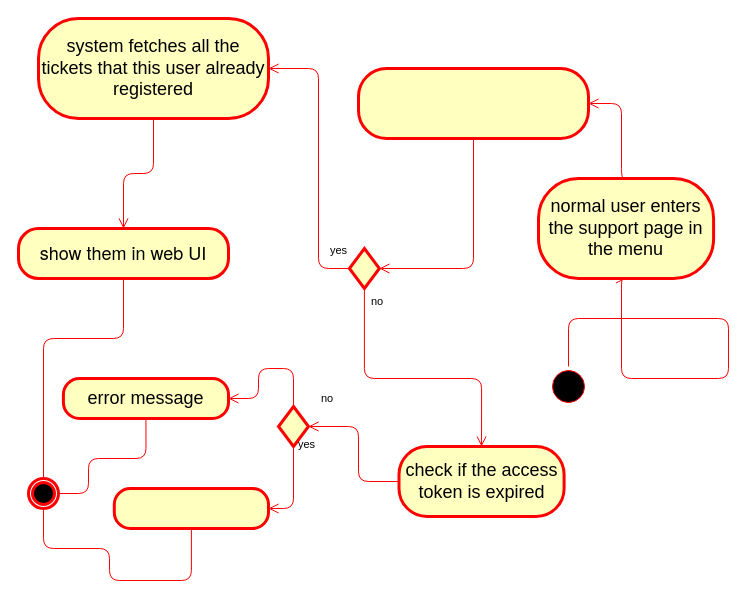
The diagram is 756 pixels wide and 599 high, and some of its shapes have lost their labels. The shapes that lost their labels are listed below. From the top down, each one's centre as x and y in pixels, then its label:
(x=473, y=103): checks if the credentials of user exists or are valid
(x=191, y=508): need refresh
